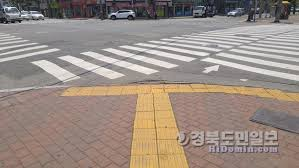guide_blocks: (129, 97, 189, 168), (64, 83, 253, 96), (255, 88, 299, 101)
